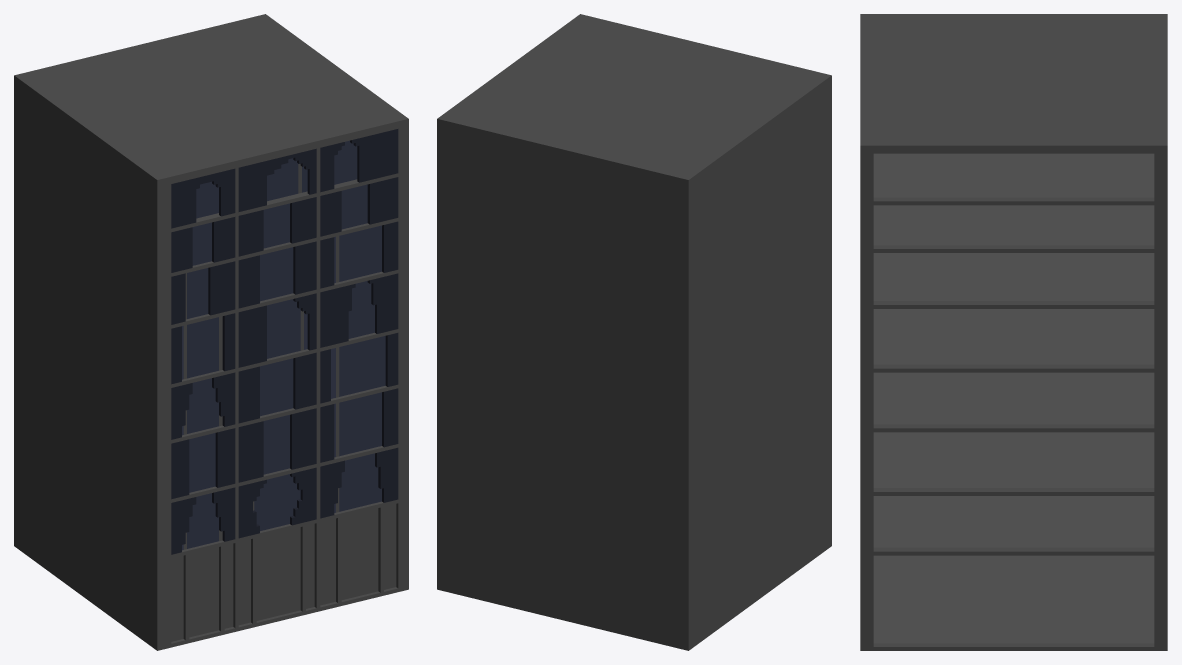
The model's file is apartment0.obj.
3 renders of one model, left to right at view 1: azimuth 30°, elevation 25°; view 2: azimuth 150°, elevation 25°; view 3: azimuth 270°, elevation 25°, orthographic. The views are drawn at different scales.
Size of the model in its own units: 7.1 by 12.7 by 7.
1 material, 1 textured.
